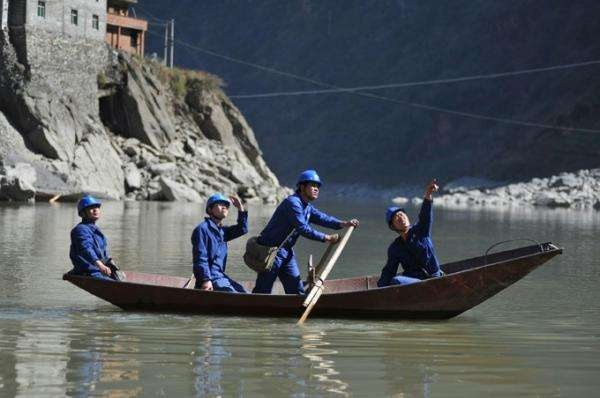blue: (294, 168, 322, 201), (204, 193, 231, 223), (75, 195, 101, 225), (385, 203, 410, 233)
